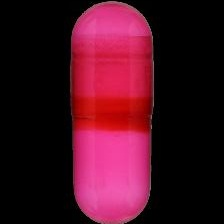0603-3340: (0, 0, 224, 224)
